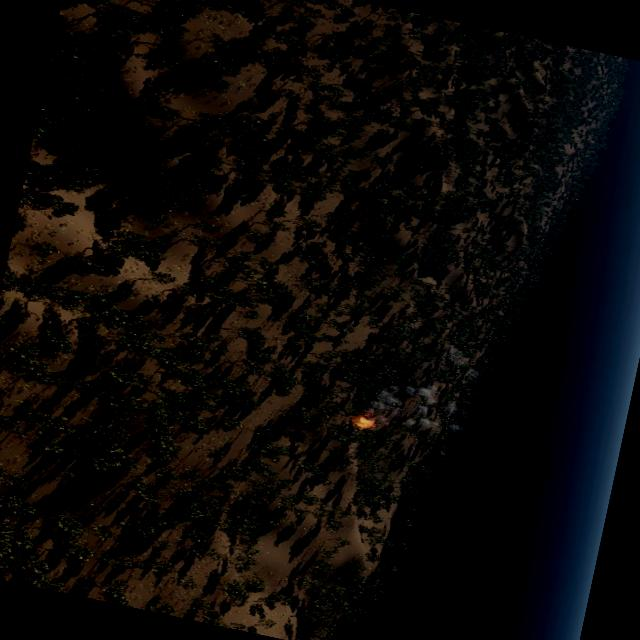fire: (353, 416, 374, 432)
smoke: (367, 373, 467, 437), (476, 394, 524, 431), (442, 346, 481, 378)
